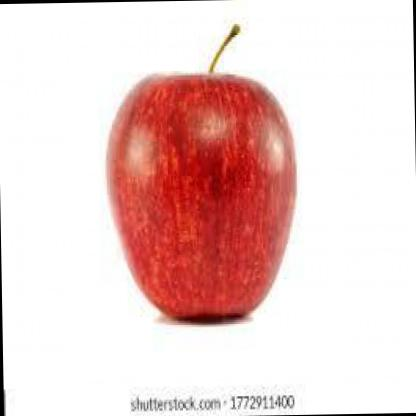apple: (103, 17, 303, 329)
